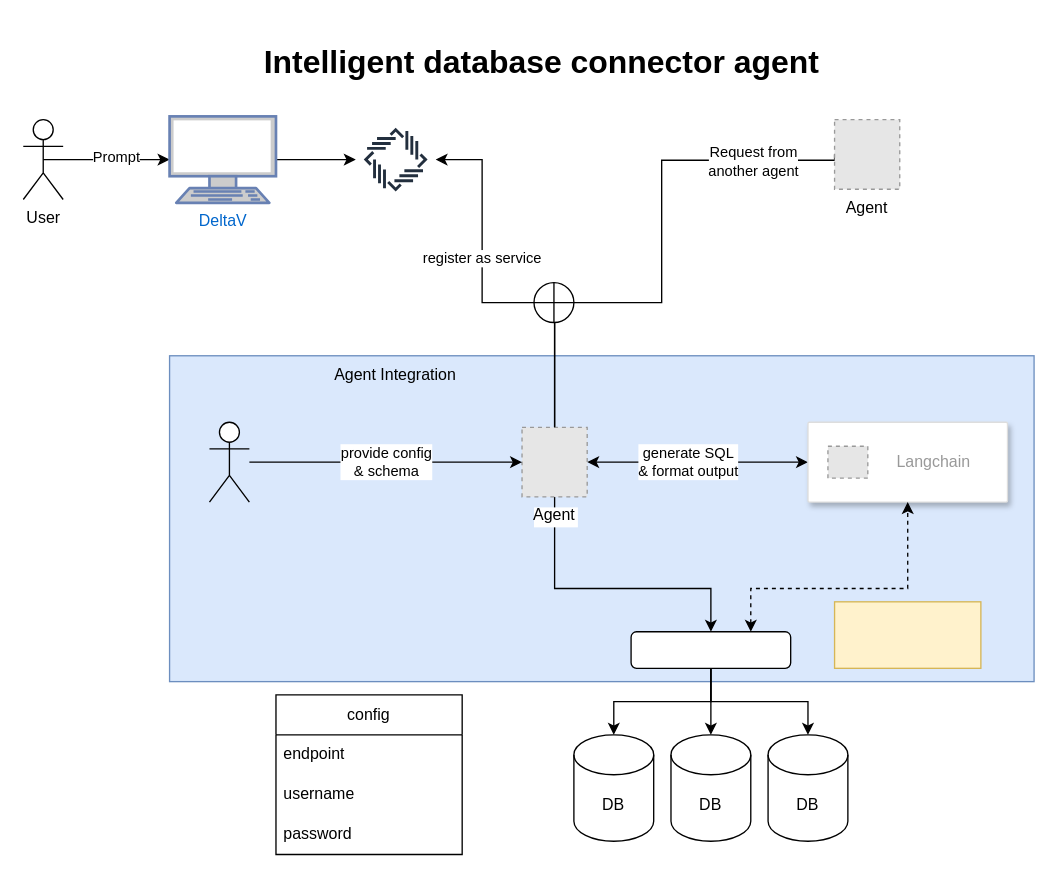
The diagram is 1057 pixels wide and 878 high, and some of its shapes have lost their labels. Grey dashed boxes stand in for pictures. The shapes that lost their labels are listed below. From the top down, each one's centre as x and y in pixels, then its label:
At point 395,159: "AI Engine".
At point 228,461: "Dev".
At point 710,649: "Database picker".
At point 907,634: "Chooses the right DB based on LLM".
